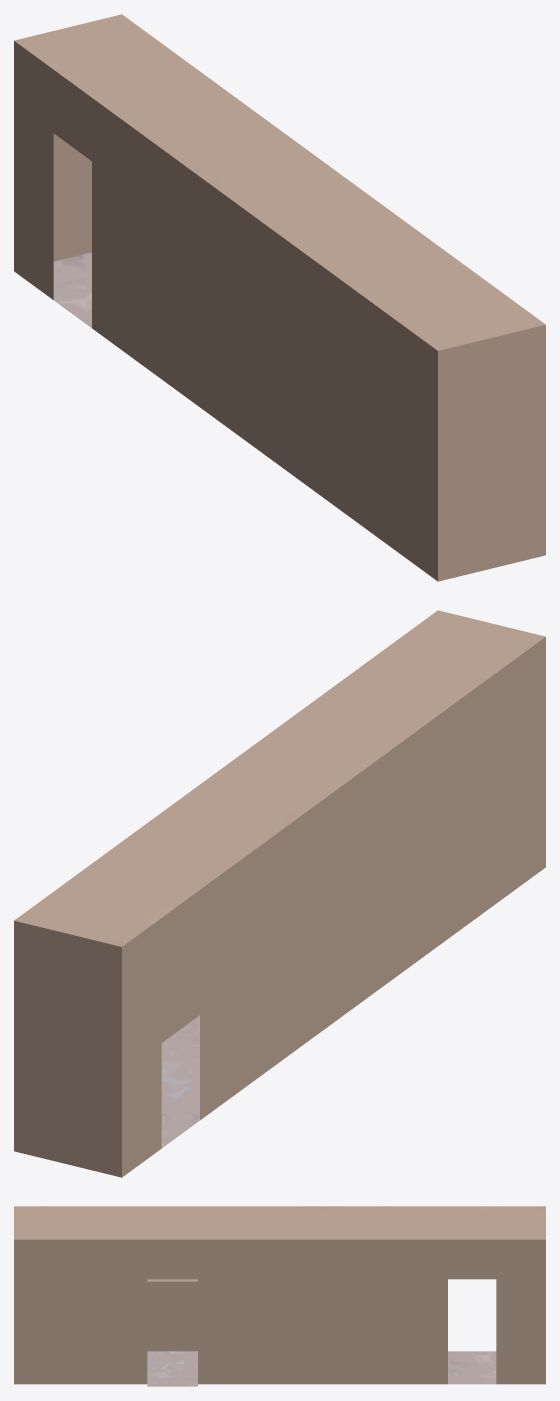
Rendered from hallway.fbx.
3 renders of one model, top to bottom at view 1: azimuth 30°, elevation 25°; view 2: azimuth 150°, elevation 25°; view 3: azimuth 270°, elevation 25°, orthographic. The views are drawn at different scales.
Visible parts, largest first — view 1: hallway; view 2: hallway; view 3: hallway.
Part boxes in pixels (x1,y1,x2,y2): hallway: [14, 14, 545, 581]; hallway: [14, 610, 545, 1177]; hallway: [14, 1206, 545, 1386].
Size of the model in its own units: 120 by 229 by 762.
